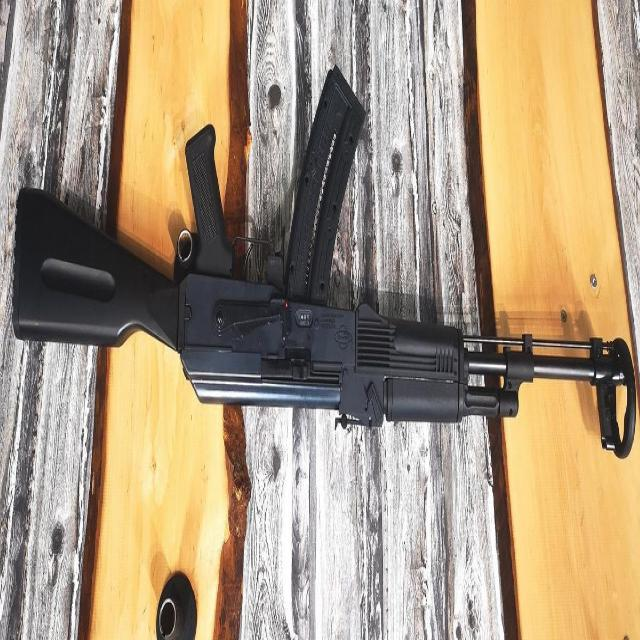weapon: (12, 64, 628, 433)
